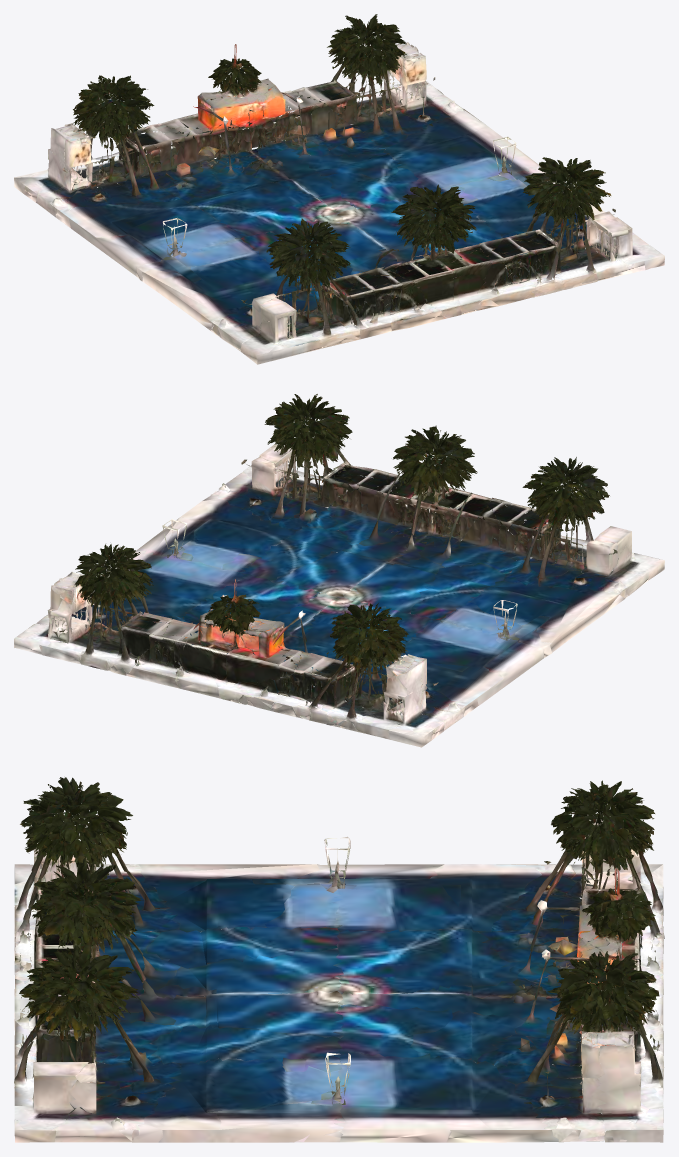
File: venice-blue-court.glb
3 renders of one model, top to bottom at view 1: azimuth 30°, elevation 25°; view 2: azimuth 150°, elevation 25°; view 3: azimuth 270°, elevation 25°, orthographic. The views are drawn at different scales.
Parts seen in each view (by area): view 1: Mesh_0; view 2: Mesh_0; view 3: Mesh_0.
Boxes of the visible parts, left/top/right/bottom form: Mesh_0: left=14, top=14, right=664, bottom=364; Mesh_0: left=14, top=394, right=664, bottom=747; Mesh_0: left=14, top=777, right=664, bottom=1142.
Bounding box in the file's own units: 1.86 × 0.4606 × 1.91.
Materials: 1 (1 with a texture image).
